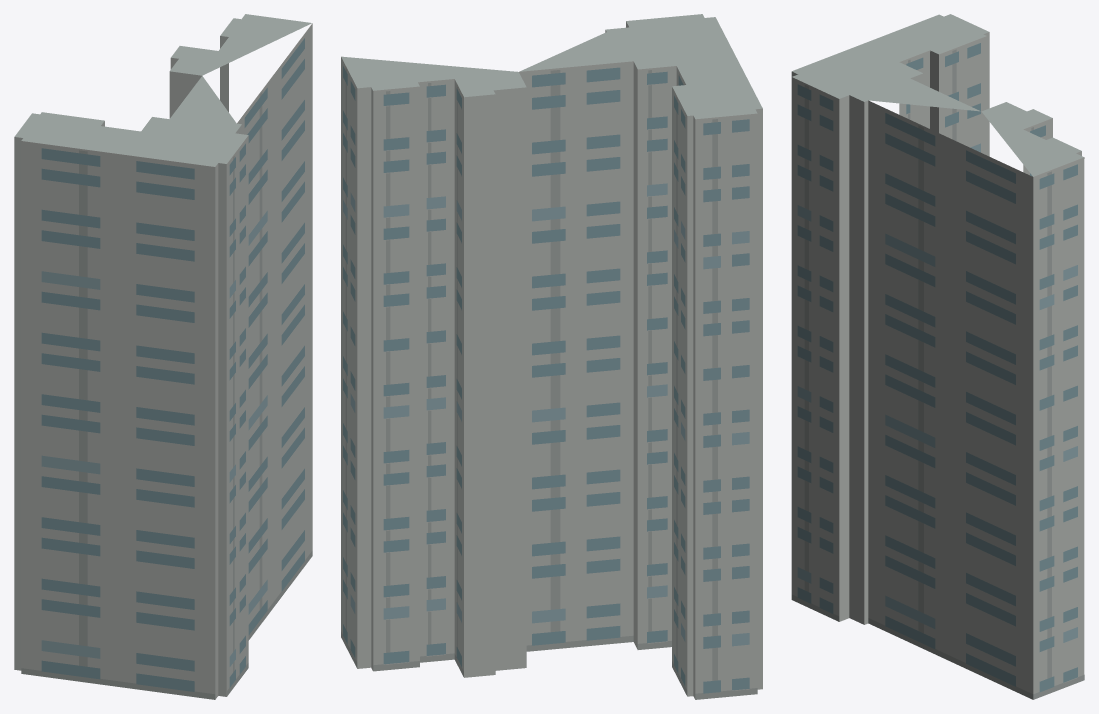
The model's file is residential-d44149e4-01ba-46da-80f8-1bccc4378570.glb.
The picture shows the model from 3 angles, left to right: view 1: azimuth 30°, elevation 25°; view 2: azimuth 150°, elevation 25°; view 3: azimuth 270°, elevation 25°; orthographic projection. The views are drawn at different scales.
Parts seen in each view (by area): view 1: residential-d44149e4-01ba-46da-80f8-1bccc4378570.tmp; view 2: residential-d44149e4-01ba-46da-80f8-1bccc4378570.tmp; view 3: residential-d44149e4-01ba-46da-80f8-1bccc4378570.tmp.
Boxes of the visible parts, x1,y1,x2,y2 form: residential-d44149e4-01ba-46da-80f8-1bccc4378570.tmp: (14,14,312,699); residential-d44149e4-01ba-46da-80f8-1bccc4378570.tmp: (341,14,762,699); residential-d44149e4-01ba-46da-80f8-1bccc4378570.tmp: (791,14,1084,699).
Size of the model in its own units: 52.8 by 79 by 40.12.
